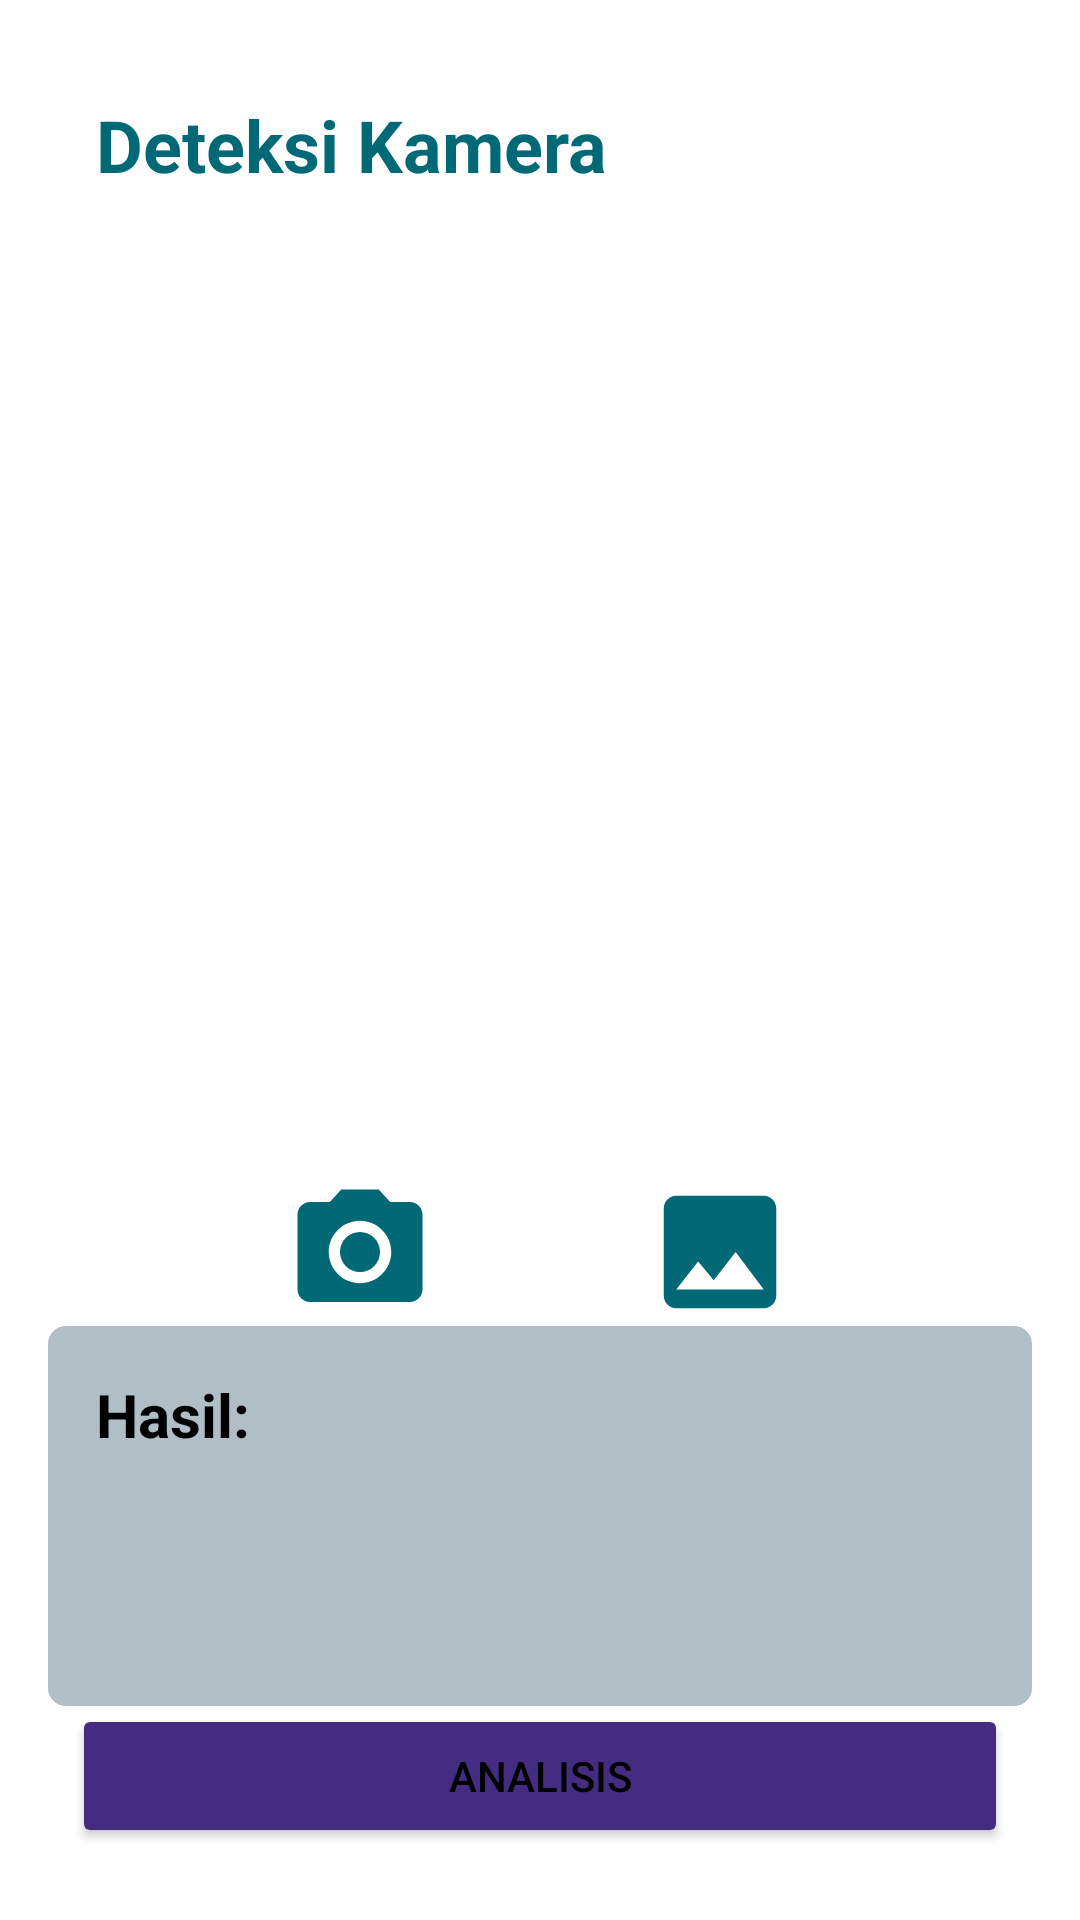

Screen size 1080px x 1920px. Icon name, then its center in pixels as [x,y]:
camera button: [360,1245]
gallery button: [720,1252]
